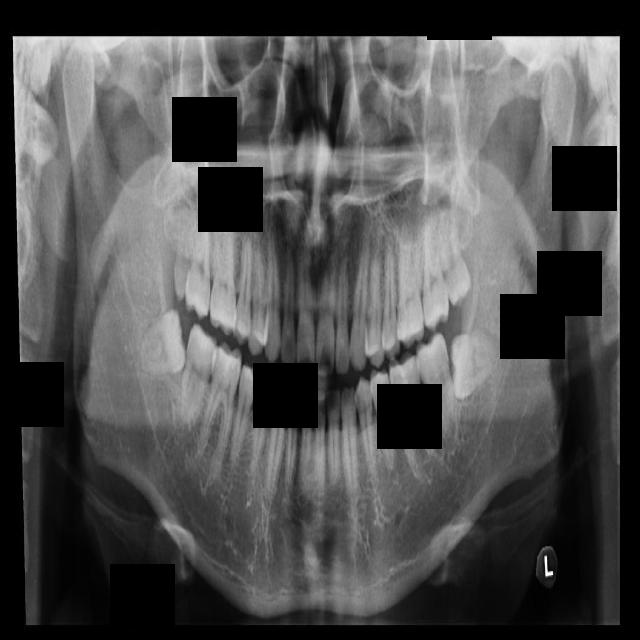3M ESPE Implant: (170, 207, 194, 302)
73: (580, 554, 588, 572)
BioHorizons Implant: (423, 223, 449, 332)
BioLife Implant: (428, 201, 476, 307)
Biomet 3i Implant: (449, 332, 499, 400)
Blue Sky Bio Implant: (412, 331, 463, 437)
Caries: (184, 200, 212, 317)
Implant: (174, 322, 221, 430)
Keystone Dental Implant: (130, 307, 189, 379)
